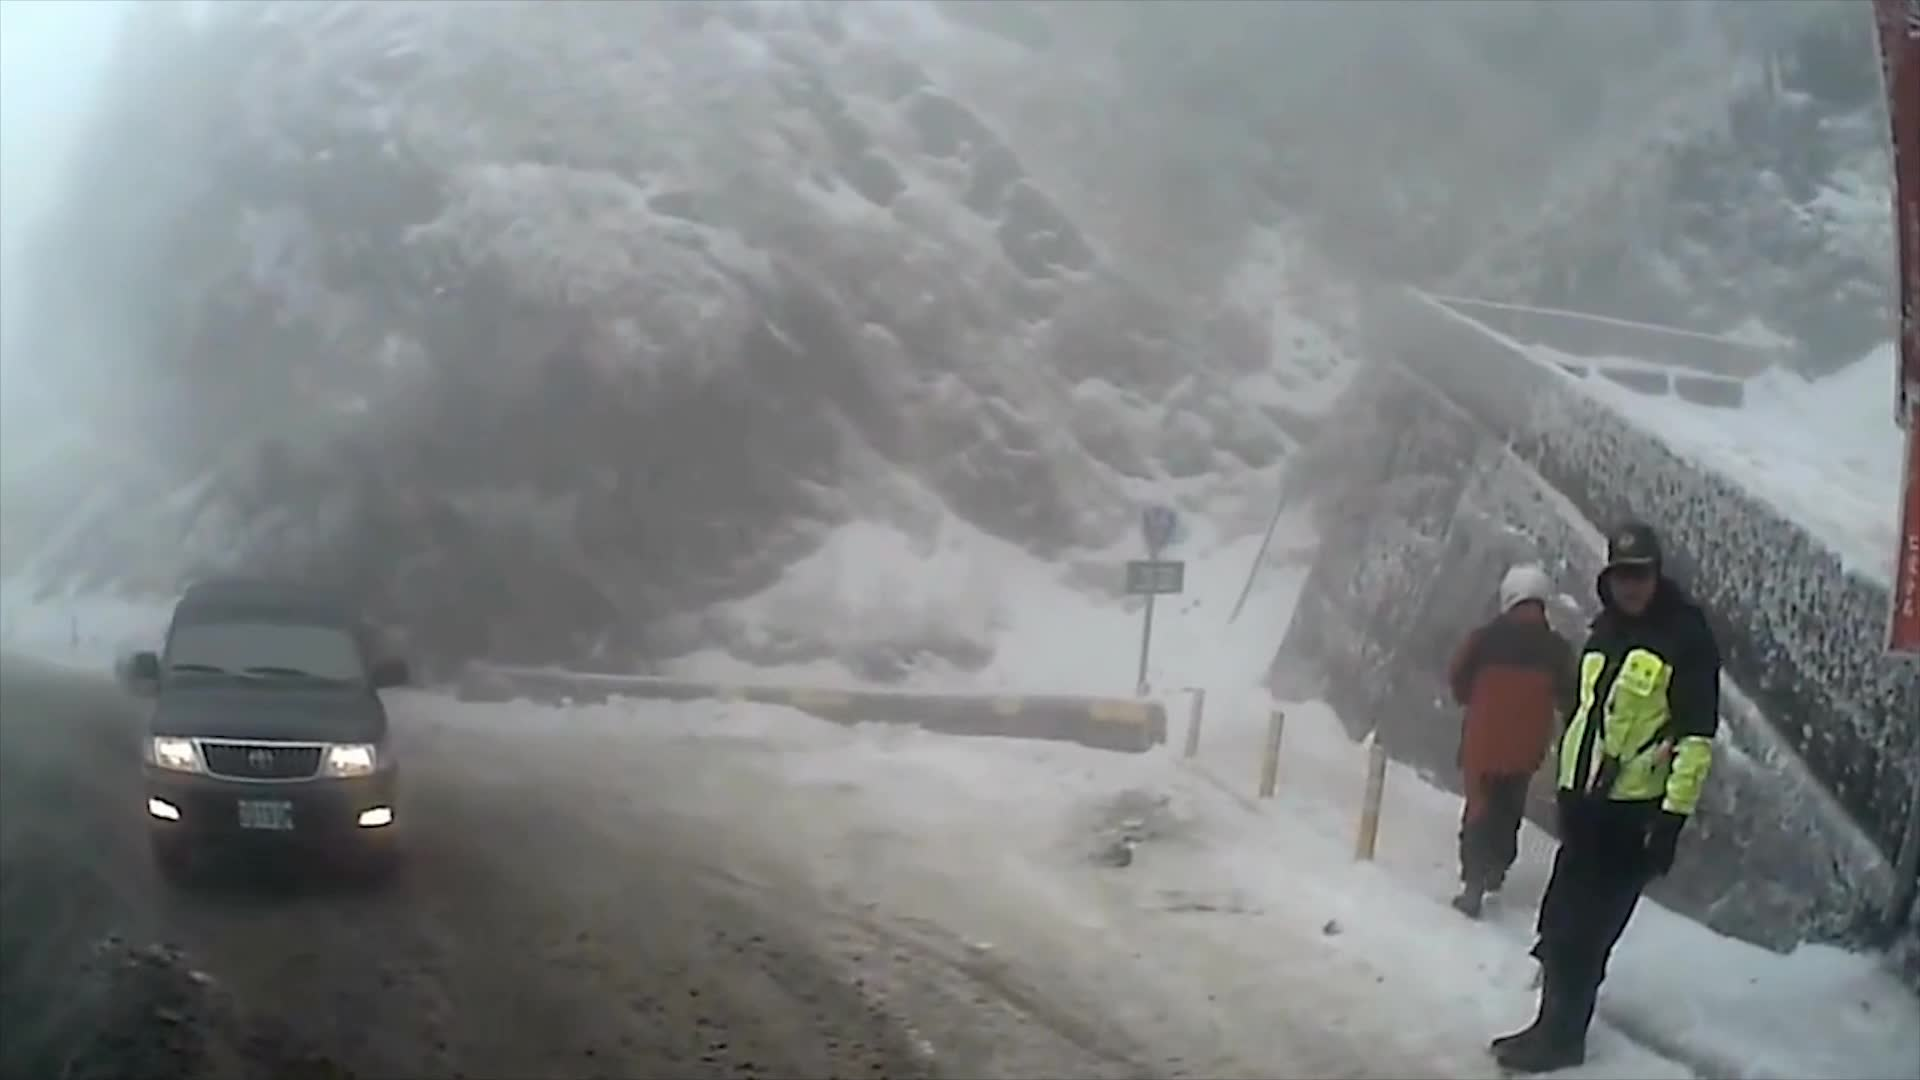pedestrian: (1503, 522, 1733, 1069), (1450, 560, 1587, 914)
vehicle: (131, 579, 409, 884)
